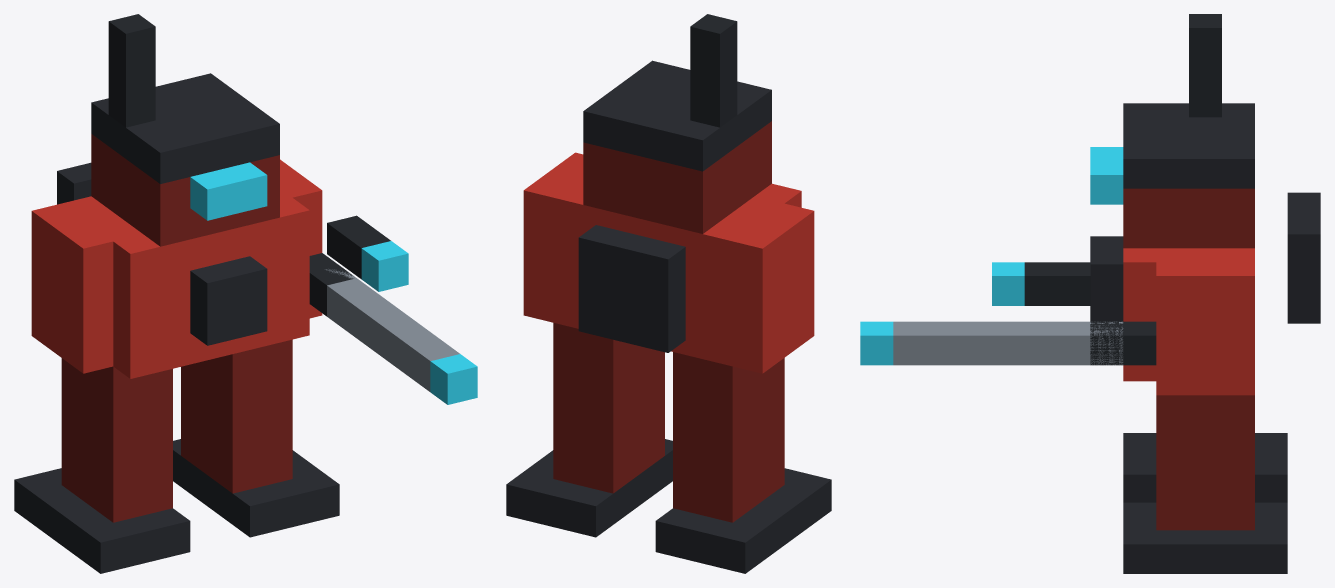
Rendered from mech_sniper.glb.
The picture shows the model from 3 angles, left to right: view 1: azimuth 30°, elevation 25°; view 2: azimuth 150°, elevation 25°; view 3: azimuth 270°, elevation 25°; orthographic projection. The views are drawn at different scales.
Parts seen in each view (by area): view 1: Torso mesh, Feet mesh, Leg L mesh, Leg R mesh, Hood mesh, Arm L mesh, Head mesh, Rifle mesh, Vest mesh, Antenna mesh, Scope mesh, Visor mesh (+4 smaller); view 2: Feet mesh, Leg L mesh, Leg R mesh, Torso mesh, Arm L mesh, Head mesh, Hood mesh, Pack mesh, Arm R mesh, Antenna mesh; view 3: Feet mesh, Leg R mesh, Arm R mesh, Hood mesh, Rifle mesh, Head mesh, Torso mesh, Pack mesh, Scope mesh, Antenna mesh, Stock mesh, Vest mesh (+2 smaller).
Boxes of the visible parts, bbox=[...] form: Torso mesh: bbox=[62, 189, 309, 378]; Feet mesh: bbox=[14, 439, 339, 573]; Leg L mesh: bbox=[61, 358, 172, 522]; Leg R mesh: bbox=[181, 339, 292, 493]; Hood mesh: bbox=[91, 73, 279, 183]; Arm L mesh: bbox=[31, 203, 113, 373]; Head mesh: bbox=[91, 134, 279, 246]; Rifle mesh: bbox=[325, 269, 459, 391]; Vest mesh: bbox=[190, 256, 267, 345]; Antenna mesh: bbox=[108, 14, 155, 127]; Scope mesh: bbox=[327, 215, 408, 291]; Visor mesh: bbox=[190, 162, 267, 220]; Feet mesh: bbox=[506, 439, 831, 573]; Leg L mesh: bbox=[673, 352, 784, 522]; Leg R mesh: bbox=[553, 322, 664, 493]; Torso mesh: bbox=[553, 176, 801, 366]; Arm L mesh: bbox=[732, 203, 814, 373]; Head mesh: bbox=[583, 121, 771, 233]; Hood mesh: bbox=[583, 60, 771, 171]; Pack mesh: bbox=[578, 225, 685, 352]; Arm R mesh: bbox=[523, 152, 583, 322]; Antenna mesh: bbox=[690, 14, 737, 127]; Feet mesh: bbox=[1123, 433, 1287, 573]; Leg R mesh: bbox=[1156, 395, 1254, 530]; Arm R mesh: bbox=[1156, 262, 1254, 395]; Hood mesh: bbox=[1123, 103, 1254, 188]; Rifle mesh: bbox=[893, 321, 1123, 365]; Head mesh: bbox=[1123, 188, 1254, 248]; Torso mesh: bbox=[1123, 248, 1254, 381]; Pack mesh: bbox=[1287, 192, 1320, 323]; Scope mesh: bbox=[992, 262, 1090, 305]; Antenna mesh: bbox=[1189, 14, 1221, 117]; Stock mesh: bbox=[1090, 321, 1156, 365]; Vest mesh: bbox=[1090, 236, 1123, 321].
Bounding box in the file's own units: 8 × 16 × 14.
1 material, 1 textured.
